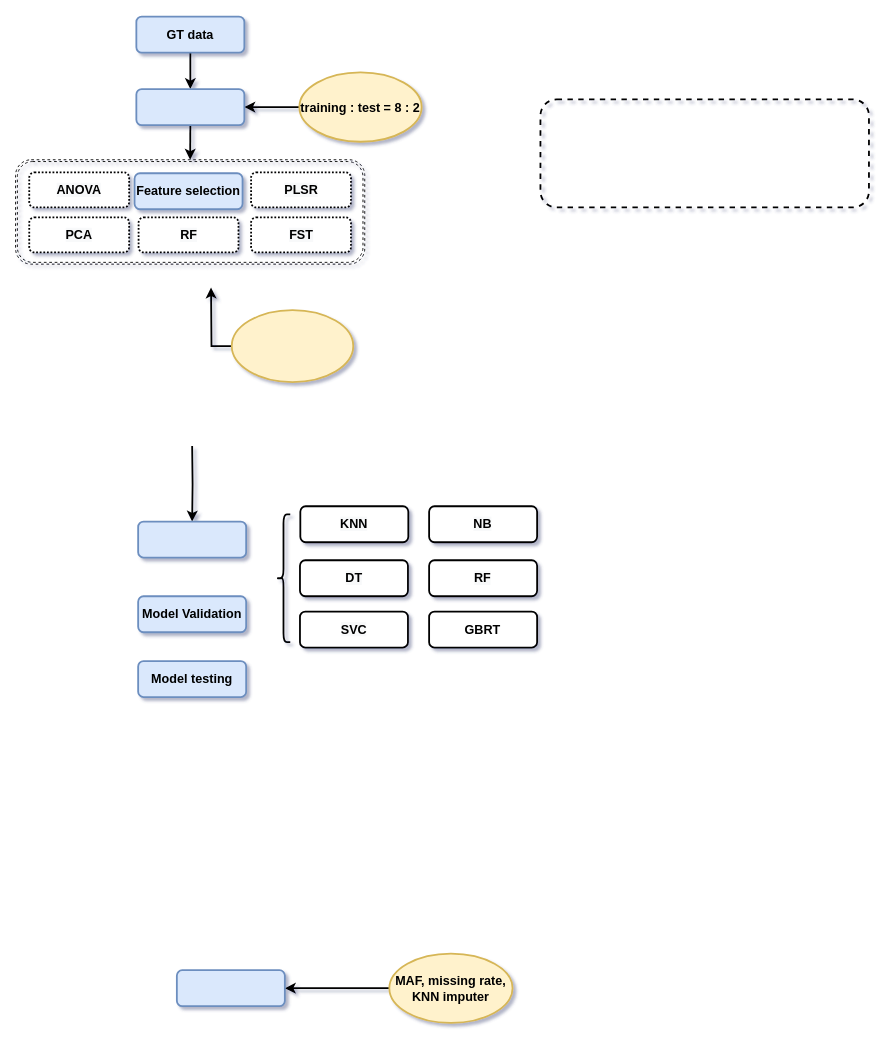
This 891x1044 diagram has some shape labels left out. Here are the shapes that lost their labels. From the top down, the centre of each, then its label:
At point 190,107: "Data split".
At point 292,345: "SelectPercentile 选取 1% 的特征".
At point 192,539: "Model training".
At point 230,988: "data filter".
